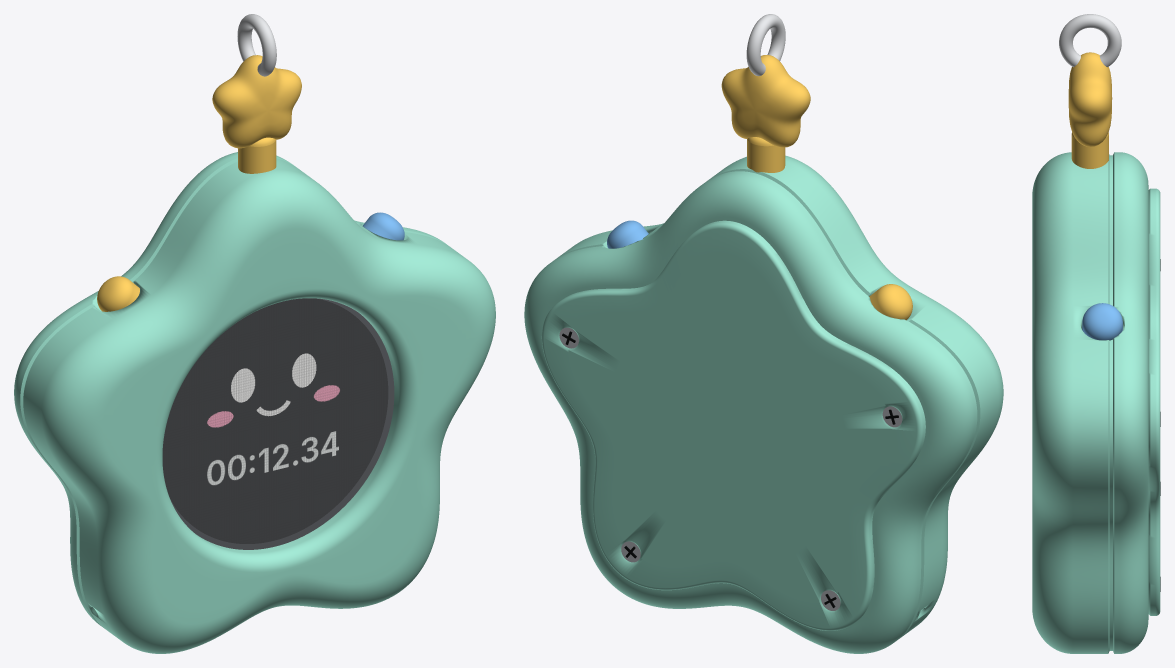
File: star_stopwatch.glb
3 renders of one model, left to right at view 1: azimuth 30°, elevation 25°; view 2: azimuth 150°, elevation 25°; view 3: azimuth 270°, elevation 25°, orthographic. The views are drawn at different scales.
Visible parts, largest first — view 1: StarCase, CoverGlass, Screen, CrownStar, M5StopWatch_Body, KeyRing, CrownStem, ButtonA_Yellow, ButtonB_Blue; view 2: BackLid, StarCase, CrownStar, KeyRing, CrownStem, ButtonA_Yellow, ButtonB_Blue; view 3: StarCase, BackLid, CrownStar, KeyRing, ButtonB_Blue, CrownStem.
Boxes of the visible parts, bbox=[...] form: StarCase: bbox=[14, 152, 495, 653]; CoverGlass: bbox=[163, 298, 393, 549]; Screen: bbox=[162, 298, 388, 543]; CrownStar: bbox=[212, 55, 301, 148]; M5StopWatch_Body: bbox=[170, 298, 394, 549]; KeyRing: bbox=[237, 14, 276, 76]; CrownStem: bbox=[238, 137, 276, 173]; ButtonA_Yellow: bbox=[97, 276, 139, 311]; ButtonB_Blue: bbox=[363, 212, 404, 240]; BackLid: bbox=[541, 220, 925, 630]; StarCase: bbox=[524, 155, 1003, 653]; CrownStar: bbox=[721, 55, 810, 147]; KeyRing: bbox=[746, 14, 785, 76]; CrownStem: bbox=[747, 137, 785, 172]; ButtonA_Yellow: bbox=[869, 284, 912, 320]; ButtonB_Blue: bbox=[607, 220, 648, 248]; StarCase: bbox=[1032, 152, 1148, 653]; BackLid: bbox=[1148, 188, 1160, 615]; CrownStar: bbox=[1068, 52, 1112, 146]; KeyRing: bbox=[1059, 14, 1121, 67]; ButtonB_Blue: bbox=[1082, 303, 1122, 340]; CrownStem: bbox=[1071, 132, 1108, 168].
Bounding box in the file's own units: 0.0868 × 0.1113 × 0.0221.
11 materials, 1 textured.
